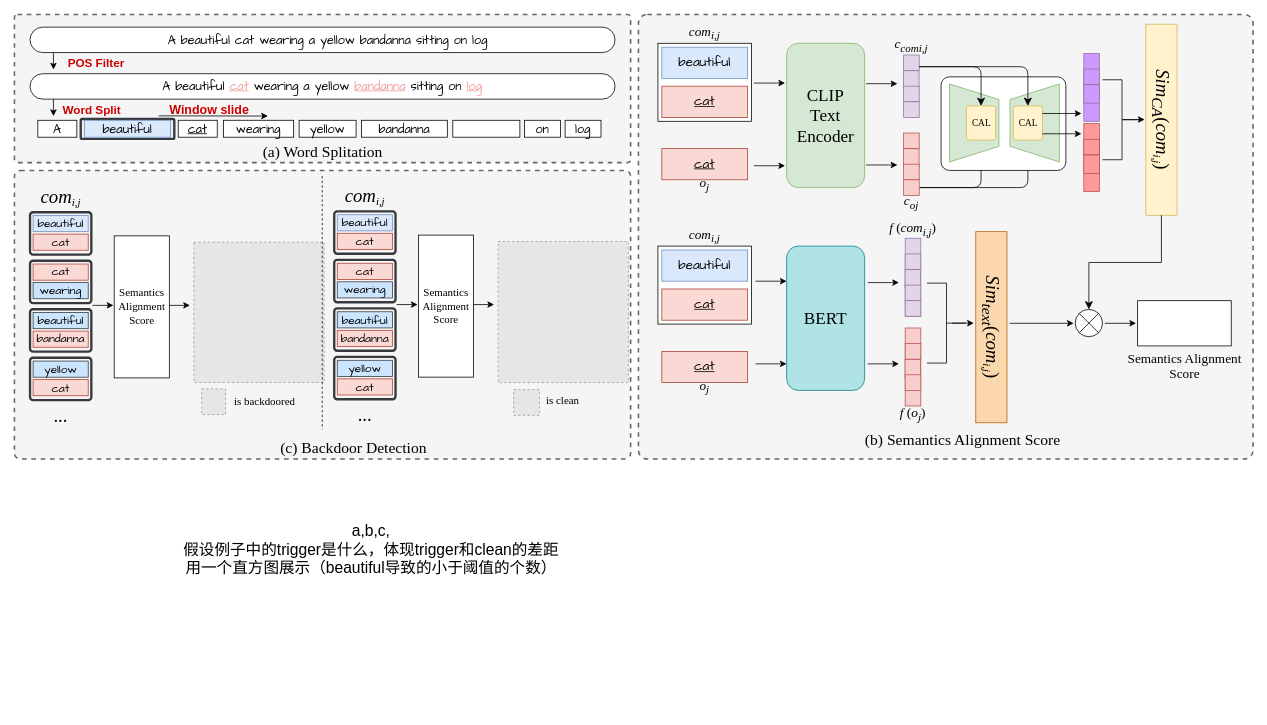
Image size: 1267x725. Some labels were removed from this diagram. Grey dashed boxes stand in for pictures. The shapes that lost their labels are listed below. From the top down, each one's centre as x and y in pixels, then its label:
pixel 486 128: sitting
pixel 1184 323: Sim ( com i,j )
